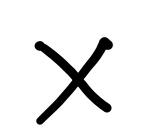mult: (34, 37, 113, 125)
